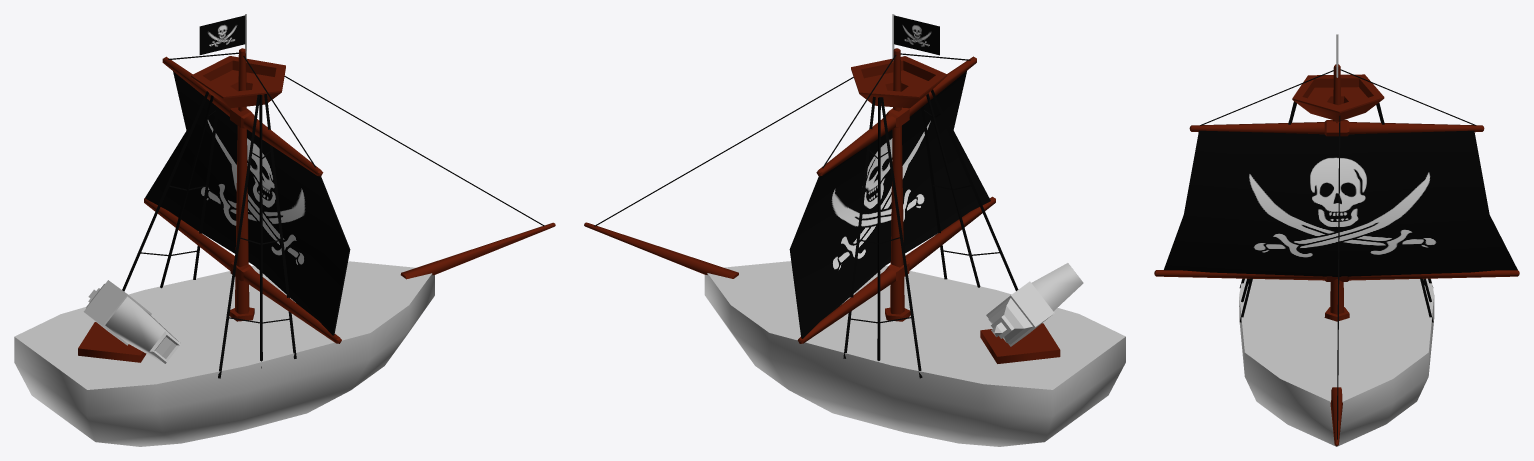
File: gedraaide2.FBX
3 views of the same model, side by side, from view 1: azimuth 30°, elevation 25°; view 2: azimuth 150°, elevation 25°; view 3: azimuth 270°, elevation 25° (orthographic). The views are drawn at different scales.
Parts seen in each view (by area): view 1: boot_AI, Plane003, Cylinder014, Cylinder012, Cylinder010, Cylinder009, Cylinder011, Cylinder015, Cylinder016, Plane004, Line017, Line019 (+4 smaller); view 2: boot_AI, Plane003, Cylinder014, Cylinder012, Cylinder010, Cylinder009, Cylinder011, Cylinder015, Cylinder016, Plane004, Line020, Line022 (+4 smaller); view 3: Plane003, boot_AI, Cylinder012, Cylinder011, Cylinder010, Cylinder009, Line029, Cylinder016.
Part boxes in pixels (x1,y1,x2,y2): boot_AI: (14,261,434,446); Plane003: (145,71,350,335); Cylinder014: (83,280,180,363); Cylinder012: (191,56,285,107); Cylinder010: (144,198,341,343); Cylinder009: (229,48,254,321); Cylinder011: (162,56,323,176); Cylinder015: (78,322,146,362); Cylinder016: (400,222,555,279); Plane004: (199,15,245,54); Line017: (218,94,260,378); Line019: (259,94,262,368); boot_AI: (704,261,1125,446); Plane003: (789,71,990,338); Cylinder014: (986,263,1083,346); Cylinder012: (851,56,947,108); Cylinder010: (797,196,995,343); Cylinder009: (885,48,910,321); Cylinder011: (816,56,976,176); Cylinder015: (980,323,1060,363); Cylinder016: (584,222,738,278); Plane004: (894,15,939,55); Line020: (880,97,922,378); Line022: (877,97,880,360); Plane003: (1164,130,1517,276); boot_AI: (1239,278,1434,446); Cylinder012: (1292,74,1384,121); Cylinder011: (1189,120,1484,136); Cylinder010: (1154,270,1519,281); Cylinder009: (1324,64,1349,321); Line029: (1337,115,1340,439); Cylinder016: (1330,387,1342,446).
Bounding box in the file's own units: 80.21 × 53.48 × 58.58.
